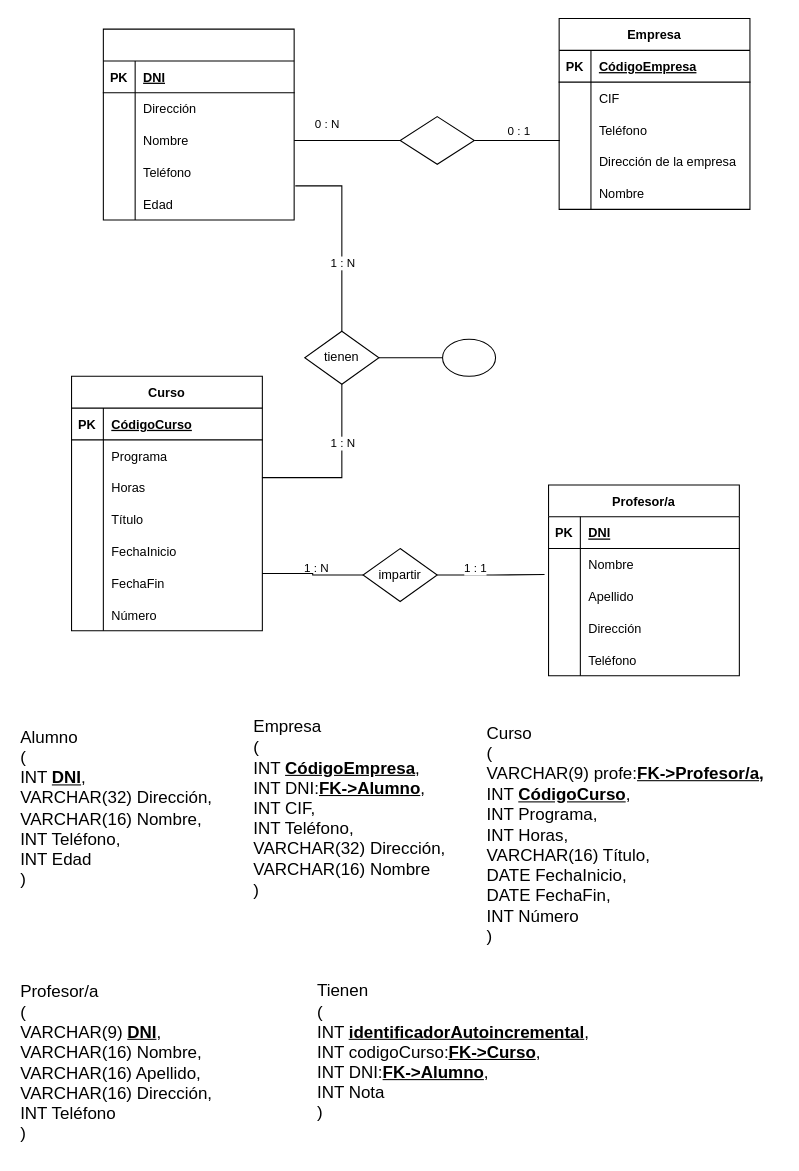
Some shapes in this 799 by 1171 pixel diagram are drawn without their labels. The box of each missing label's shape, as (x1, y1, x2, y2) in pixels:
Alumno: (102, 28, 294, 220)
nota: (441, 338, 496, 376)
trabajar: (399, 116, 474, 164)
